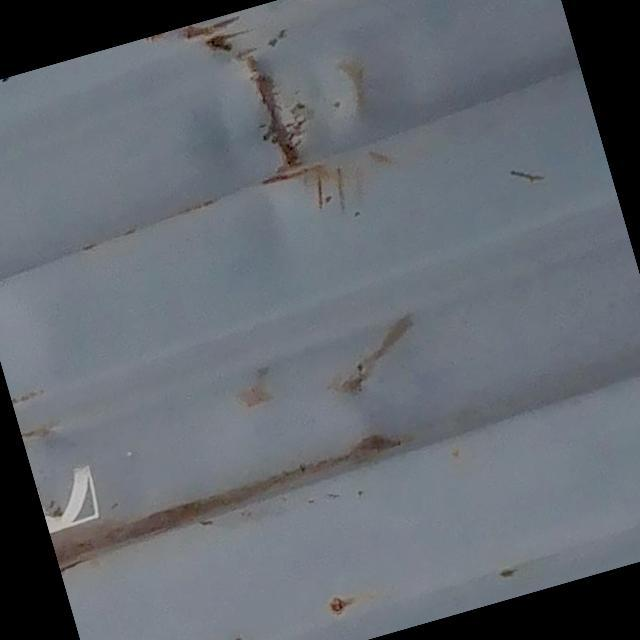rust: (176, 1, 386, 211)
